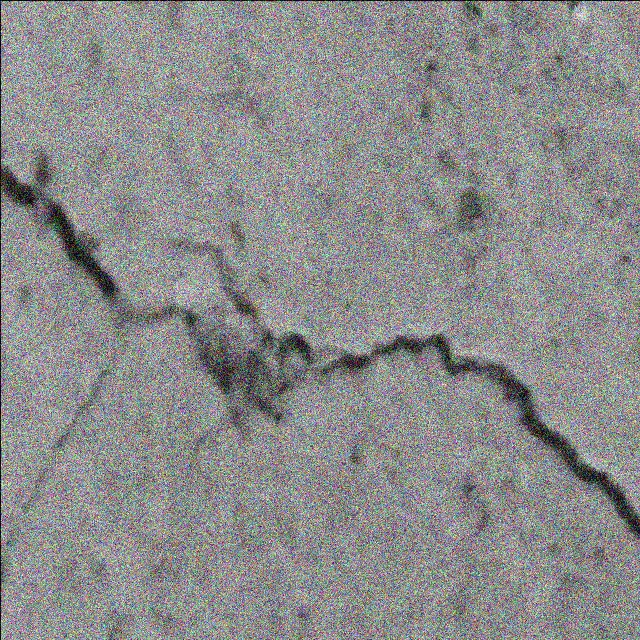SurfaceCrack: (1, 45, 639, 603)
